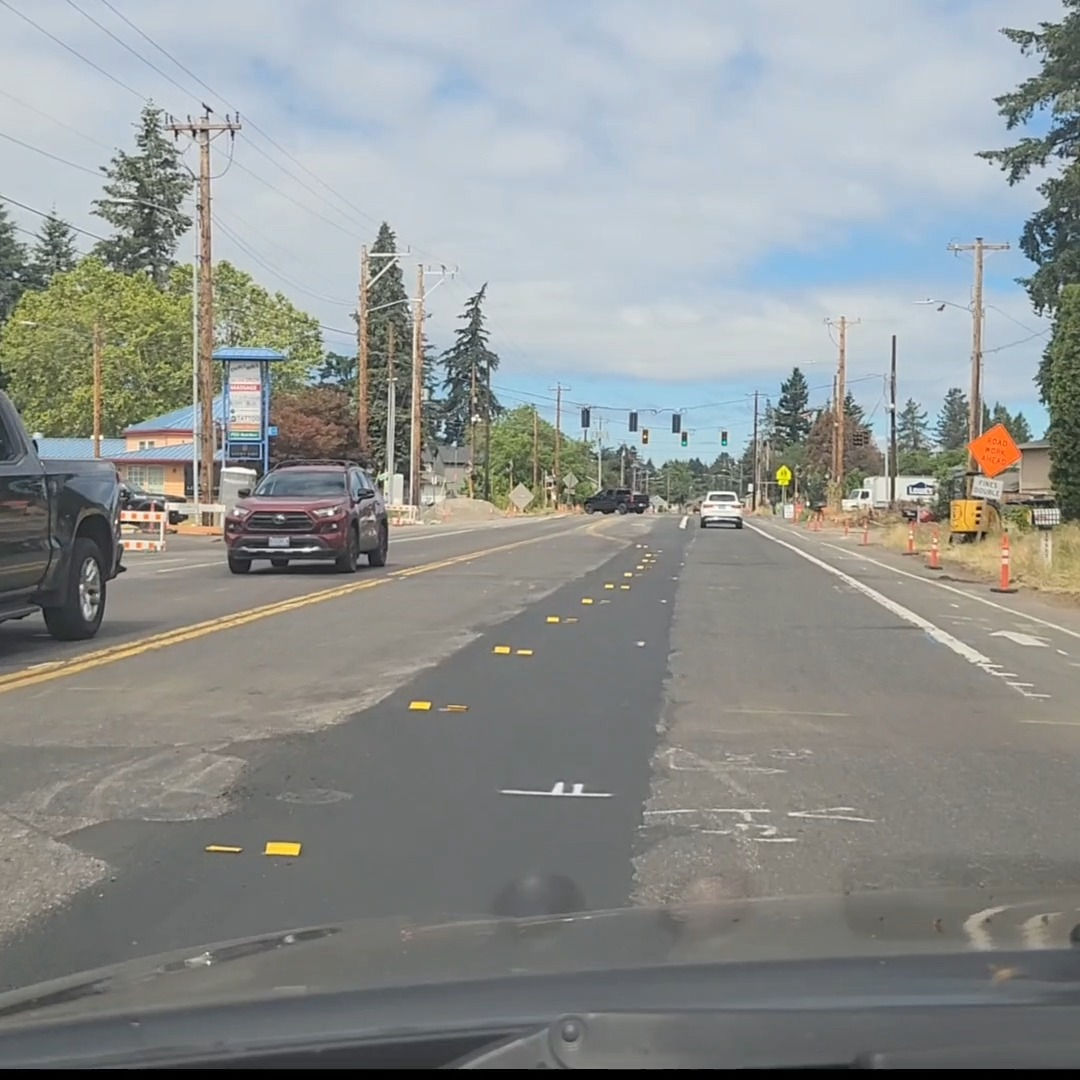car: (1, 376, 126, 641), (222, 458, 387, 573), (582, 487, 647, 514), (698, 491, 744, 529)
crosswalk-sign: (775, 465, 791, 484)
delineator: (990, 531, 1020, 594), (924, 530, 942, 569), (901, 523, 917, 555), (860, 517, 871, 545), (809, 509, 821, 531), (840, 516, 850, 538)
